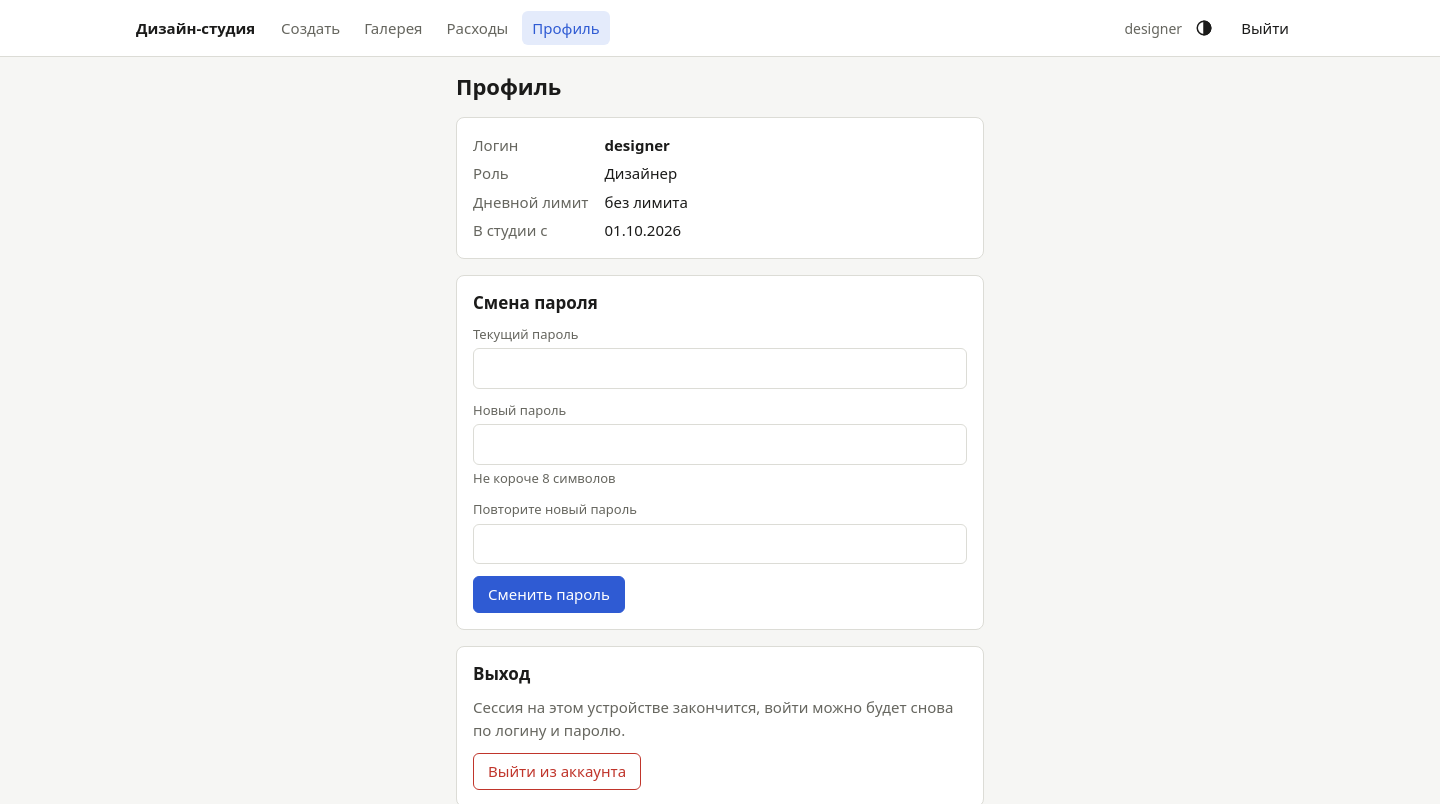
Scenario: профиль › успех показывает сообщение, очищает поля, новый пароль работает
The image size is (1440, 804).
Step 1. Type "designer123" into the password field labelled "Текущий пароль" → (720, 369), box 473,348 -> 967,389
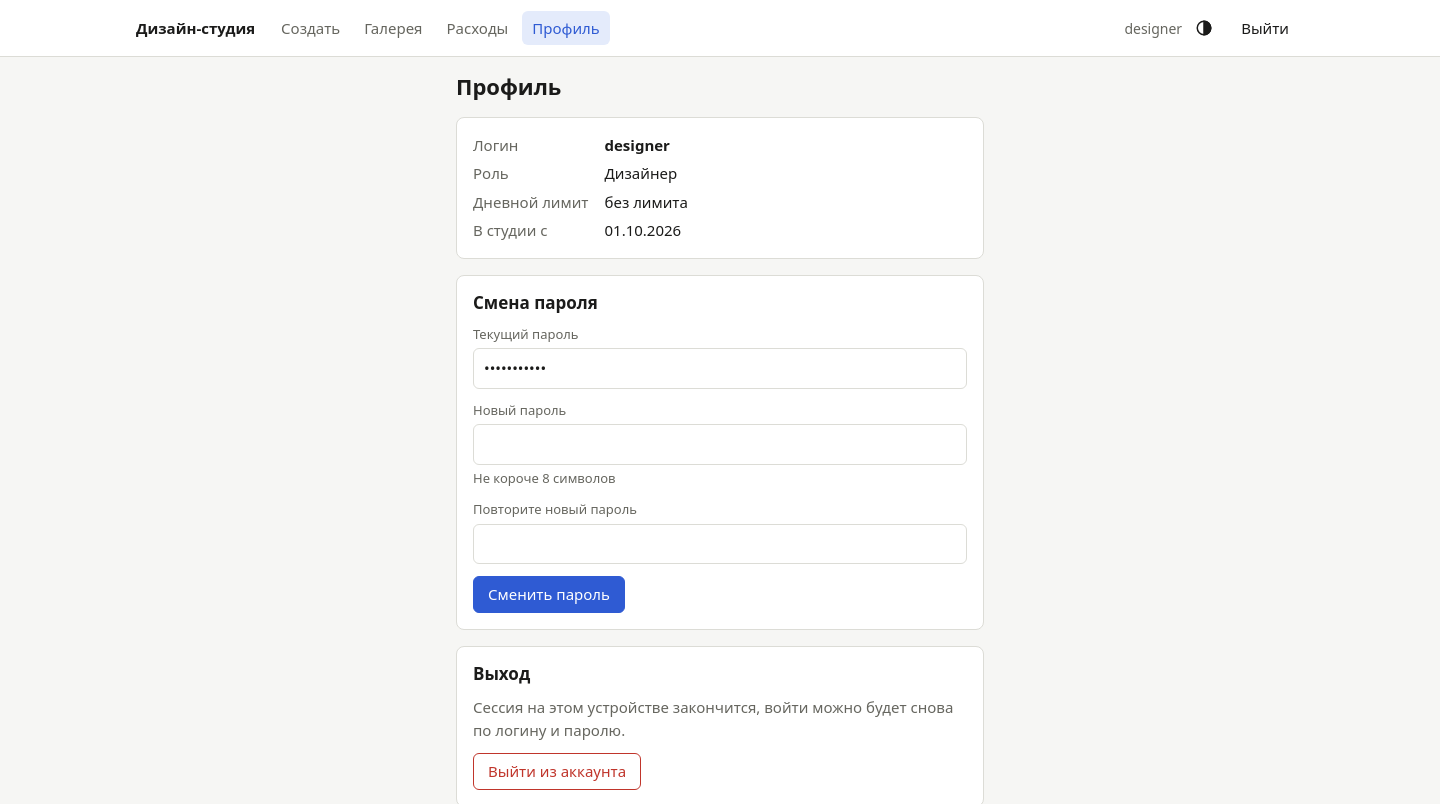
Step 2. Type "new-password-1" into the password field labelled "Новый пароль" → (720, 445), box 473,424 -> 967,465
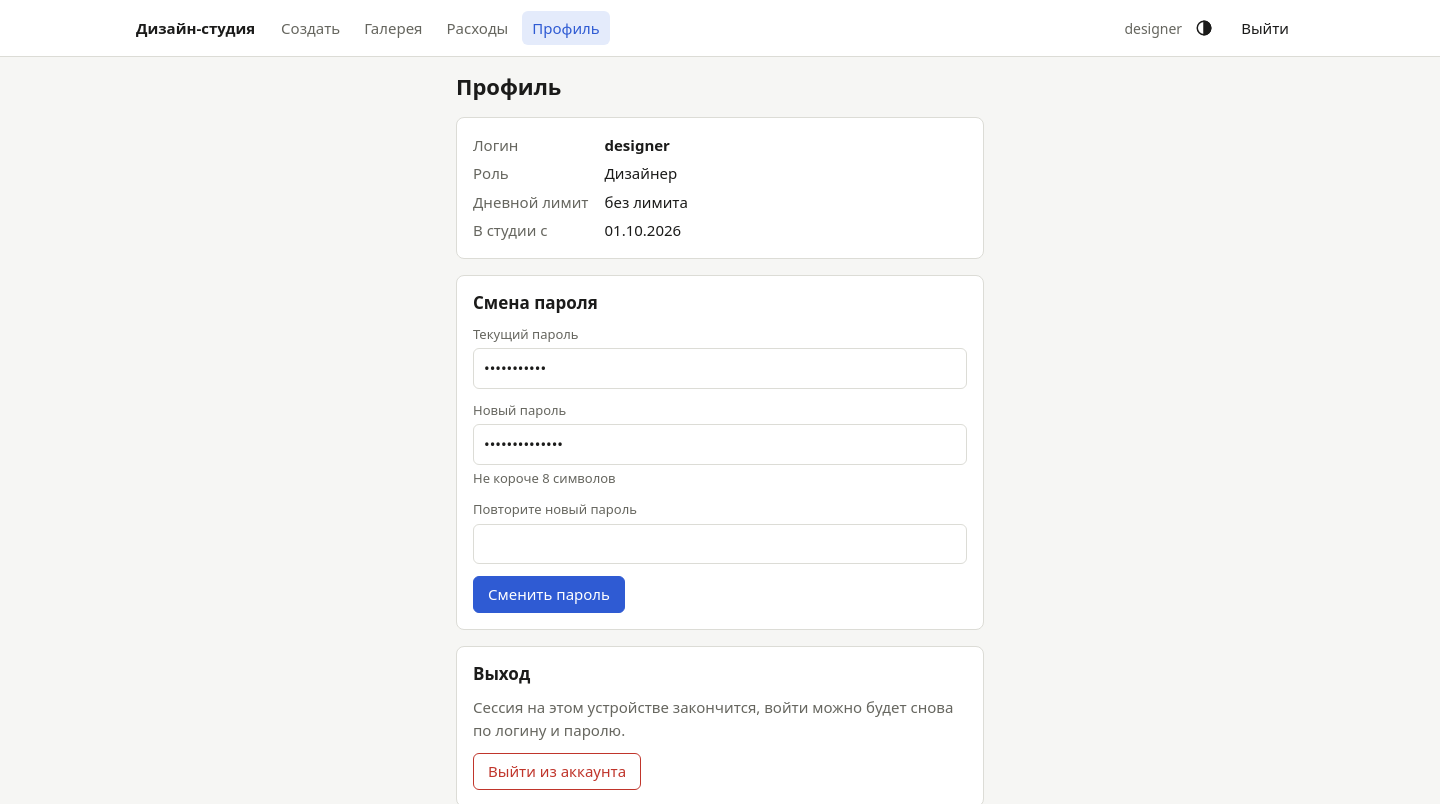
Step 3. Type "new-password-1" into the password field labelled "Повторите новый пароль" → (720, 544), box 473,524 -> 967,564
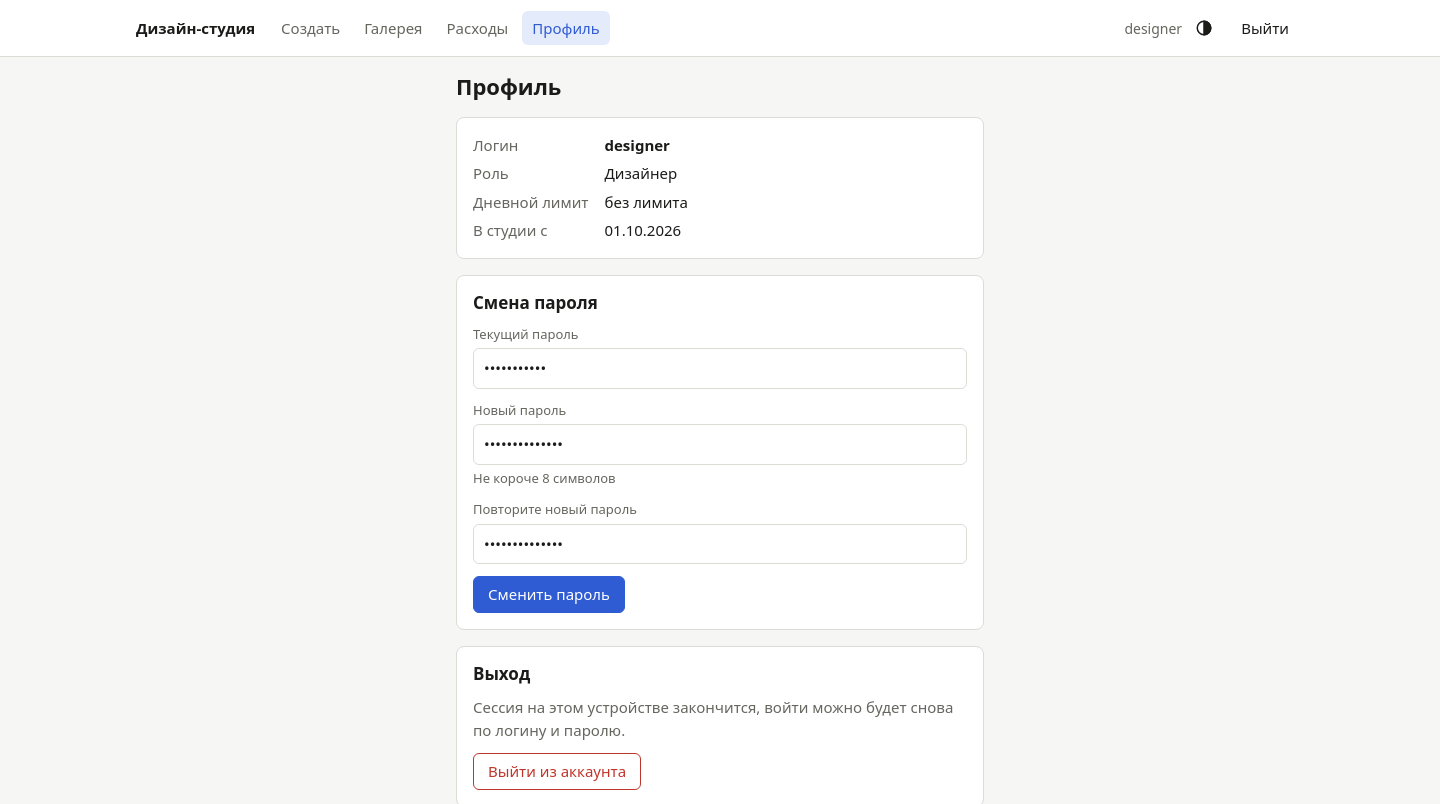
Step 4. Submit the form with test id "pw-form", box 456,274 -> 984,630
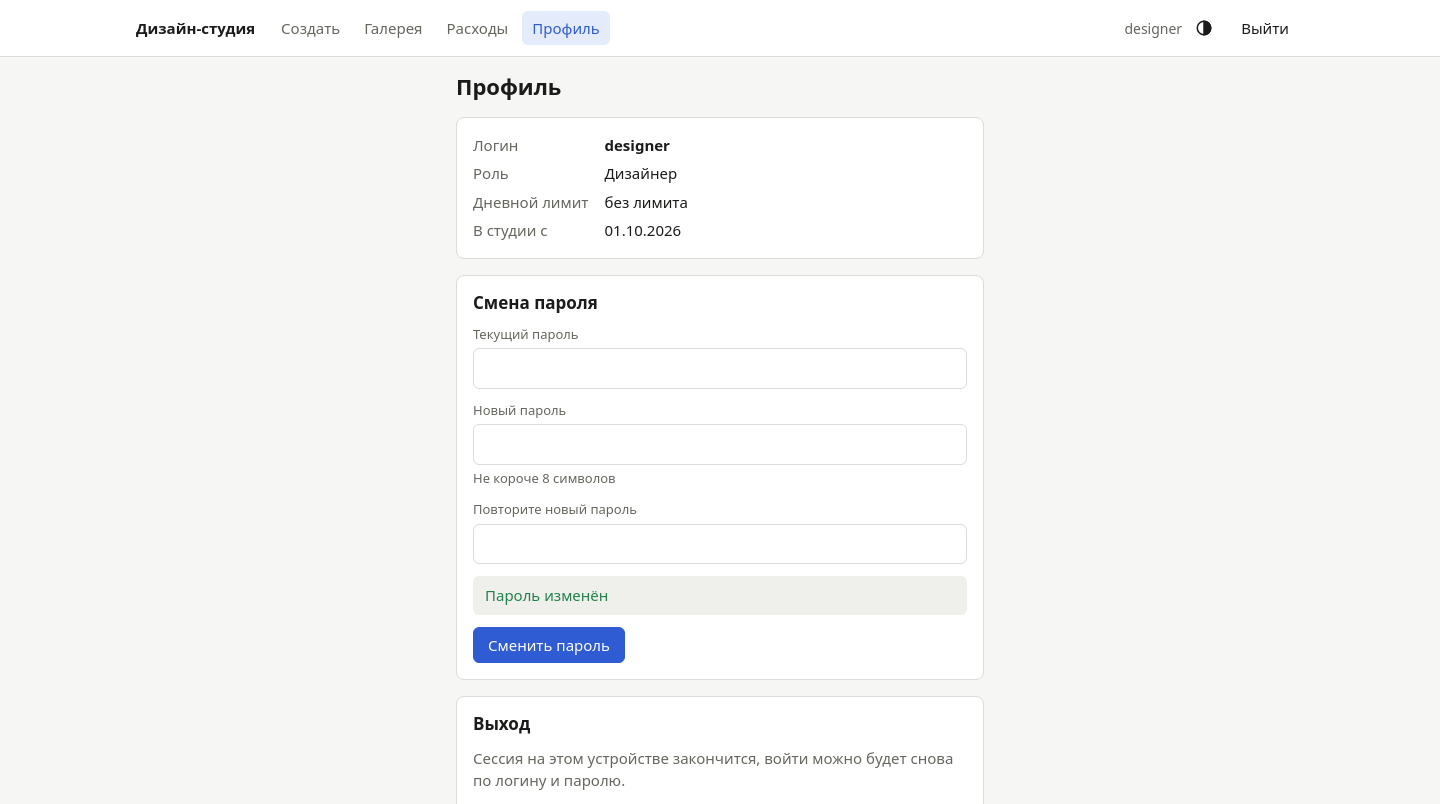
expect the message with test id "pw-success" reads "Пароль изменён": met, box 485,585 -> 608,605
